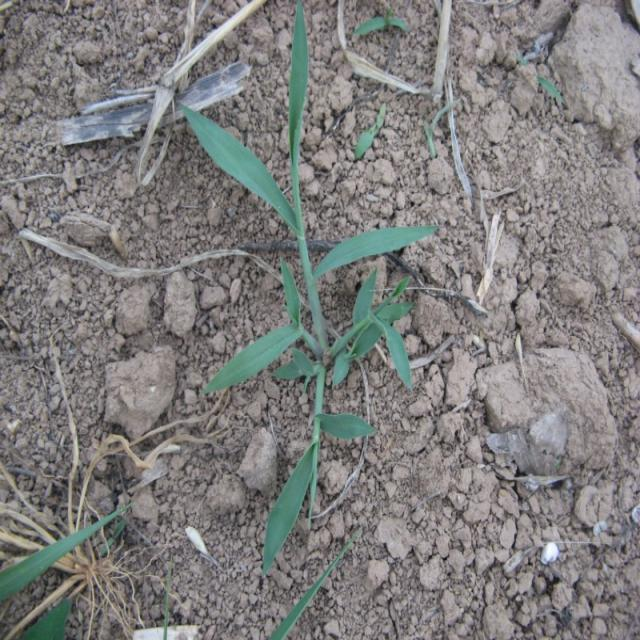bg: (180, 0, 438, 566)
